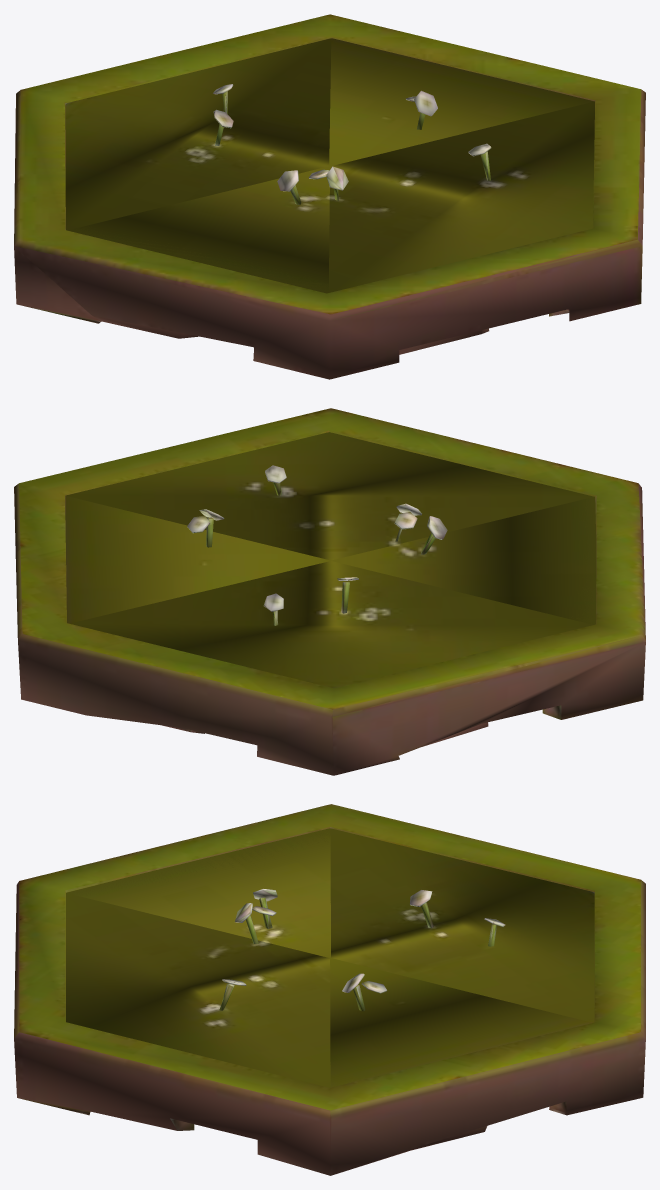
The model's file is floor-pasture.glb.
The picture shows the model from 3 angles, top to bottom: view 1: azimuth 30°, elevation 25°; view 2: azimuth 150°, elevation 25°; view 3: azimuth 270°, elevation 25°; orthographic projection.
Bounding box in the file's own units: 0.9575 × 0.1465 × 0.8218.
1 material, 1 textured.
